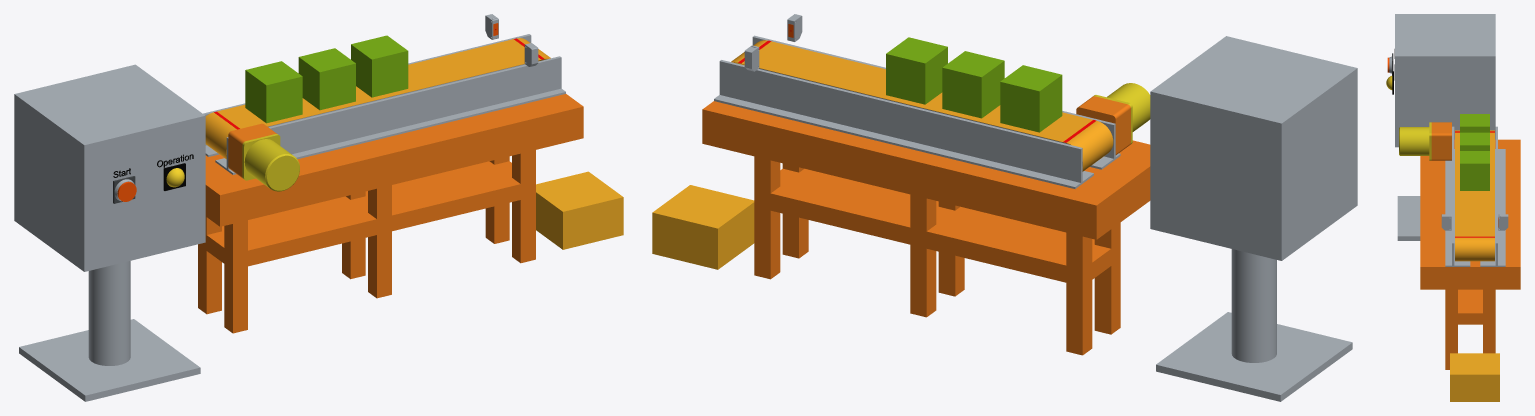
Rendered from counter_model.gltf.
3 views of the same model, side by side, from view 1: azimuth 30°, elevation 25°; view 2: azimuth 150°, elevation 25°; view 3: azimuth 270°, elevation 25° (orthographic). The views are drawn at different scales.
Parts seen in each view (by area): view 1: control_panel_body, table, table001, control_panel_stand, combair_plate, belt, work_table, work, work001, work002, motor_cover, combair_plate001 (+2 smaller); view 2: control_panel_body, table, table001, control_panel_stand, combair_plate003, belt, work_table, work, work001, work002, combair_plate002, motor_body (+2 smaller); view 3: control_panel_body, table, belt, work_table, work002, table001, control_panel_stand, combair_plate002, motor_cover, combair_plate001, motor_body, work (+5 smaller).
Part boxes in pixels (x1,y1,x2,y2): control_panel_body: [14, 64, 205, 271]; table: [198, 94, 583, 333]; table001: [206, 161, 535, 266]; control_panel_stand: [19, 261, 200, 401]; combair_plate: [226, 56, 561, 169]; belt: [205, 38, 550, 159]; work_table: [536, 171, 623, 249]; work: [245, 61, 302, 123]; work001: [298, 48, 355, 110]; work002: [351, 35, 408, 97]; motor_cover: [242, 134, 299, 191]; combair_plate001: [215, 88, 565, 174]; control_panel_body: [1150, 36, 1357, 260]; table: [702, 101, 1150, 355]; table001: [754, 168, 1120, 285]; control_panel_stand: [1156, 249, 1352, 401]; combair_plate003: [719, 60, 1082, 182]; belt: [731, 40, 1113, 171]; work_table: [652, 185, 754, 269]; work: [1000, 65, 1062, 132]; work001: [942, 51, 1004, 118]; work002: [886, 37, 947, 104]; combair_plate002: [714, 95, 1093, 188]; motor_body: [1076, 96, 1130, 154]; control_panel_body: [1395, 14, 1495, 147]; table: [1420, 139, 1520, 369]; belt: [1455, 130, 1494, 261]; work_table: [1450, 353, 1499, 401]; work002: [1460, 151, 1489, 190]; table001: [1445, 289, 1495, 324]; control_panel_stand: [1397, 196, 1420, 240]; combair_plate002: [1480, 149, 1505, 266]; motor_cover: [1399, 122, 1431, 160]; combair_plate001: [1445, 149, 1470, 266]; motor_body: [1431, 122, 1451, 160]; work: [1460, 114, 1489, 132].
Bounding box in the file's own units: 0.953 × 0.408 × 0.2675.
